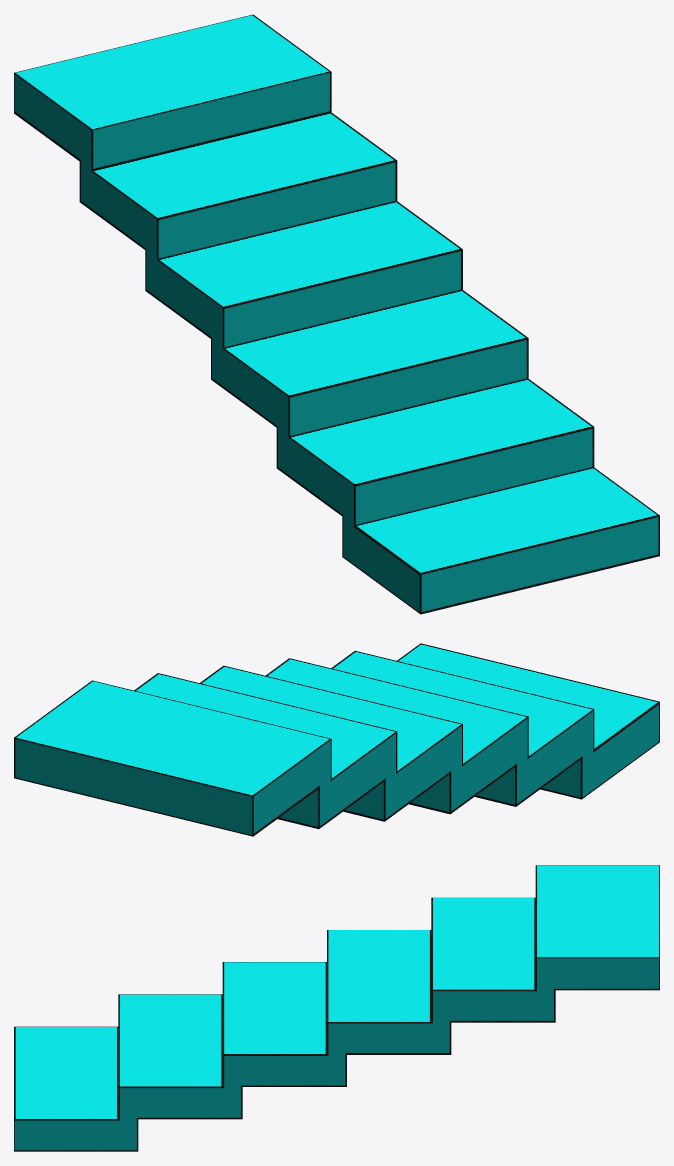
The model's file is Stairs.FBX.
The picture shows the model from 3 angles, top to bottom: view 1: azimuth 30°, elevation 25°; view 2: azimuth 150°, elevation 25°; view 3: azimuth 270°, elevation 25°; orthographic projection. The views are drawn at different scales.
Visible parts, largest first — view 1: Stairs; view 2: Stairs; view 3: Stairs.
Boxes of the visible parts, x1,y1,x2,y2 form: Stairs: (14, 14, 659, 614); Stairs: (14, 643, 659, 836); Stairs: (14, 865, 659, 1151).
Bounding box in the file's own units: 118 × 115 × 348.
